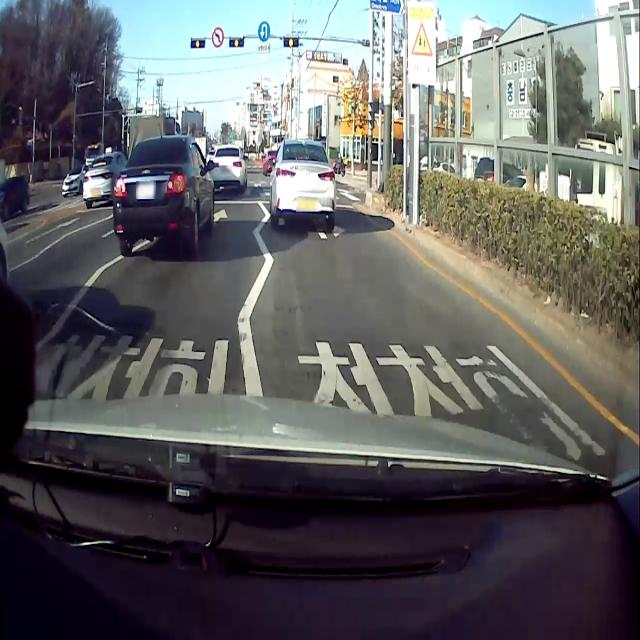Yellow Light: (288, 38, 294, 47), (195, 38, 200, 48), (234, 37, 239, 47)
